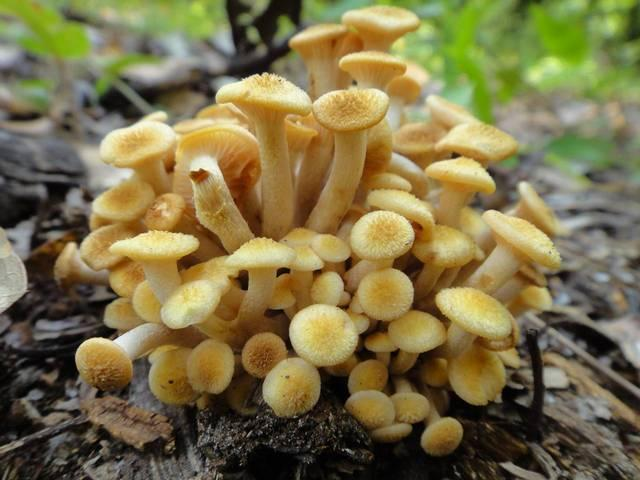Edible Mushroom: (57, 3, 562, 456)
